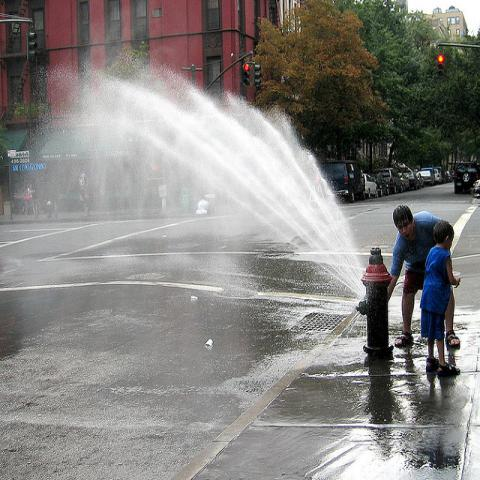car: (321, 161, 366, 200), (453, 161, 479, 196), (376, 168, 404, 195), (361, 173, 378, 198), (406, 172, 425, 190), (418, 170, 435, 186), (398, 172, 410, 192), (470, 179, 480, 198), (434, 169, 442, 185), (446, 171, 453, 182)
